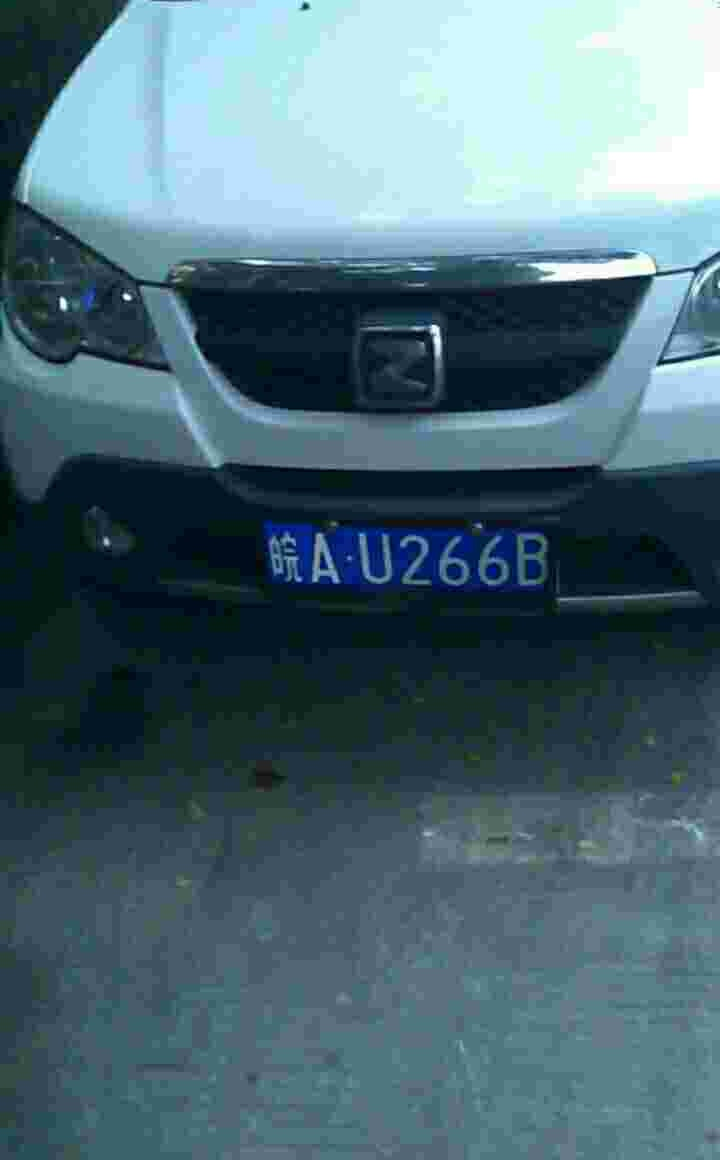license_plate: (257, 524, 561, 603)
